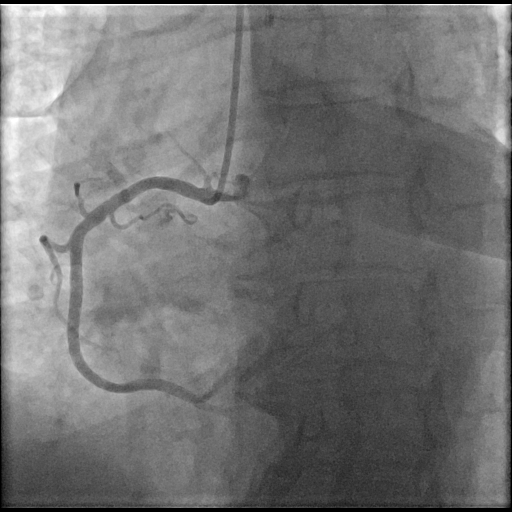RCA: (67, 176, 260, 415)
catherter: (203, 5, 244, 206)
